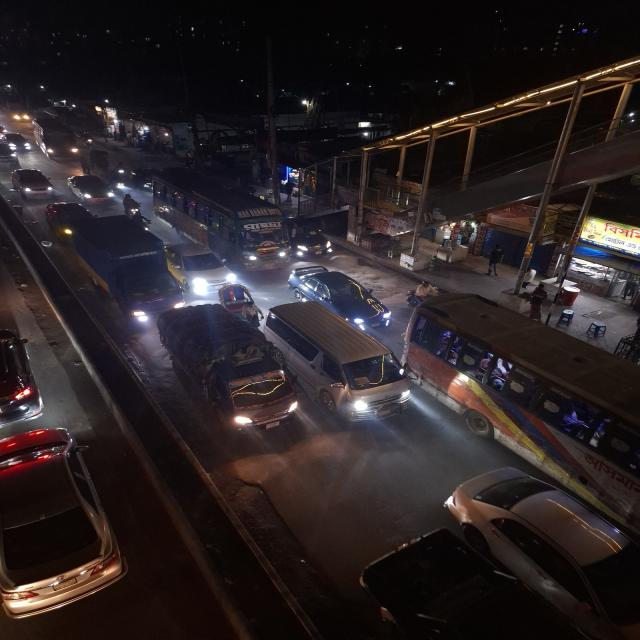bus: (402, 290, 638, 530), (150, 168, 295, 270), (31, 117, 80, 159)
car: (440, 462, 640, 639), (0, 424, 117, 624), (268, 302, 408, 428), (289, 265, 395, 329), (0, 325, 43, 432), (167, 240, 237, 294), (43, 198, 91, 239), (66, 172, 118, 204), (9, 166, 56, 200), (297, 227, 338, 260), (4, 131, 32, 151), (0, 142, 21, 163)
motorcycle: (120, 192, 142, 218), (114, 160, 130, 182)
truck: (156, 300, 298, 436), (71, 219, 182, 329)
